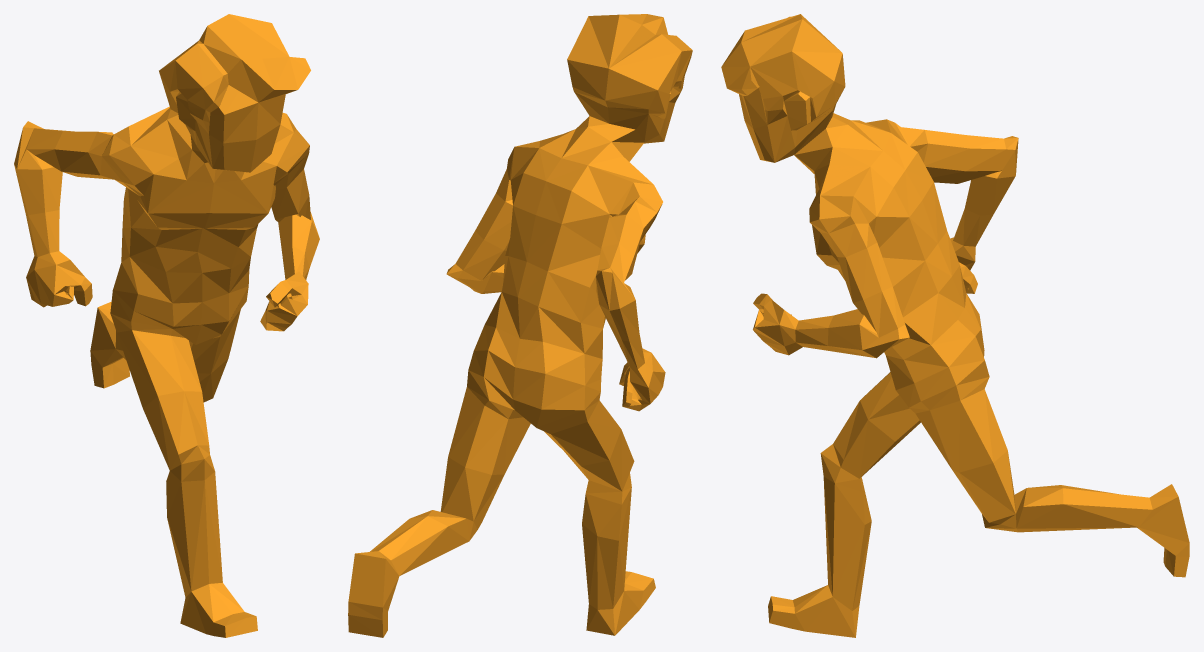
The model's file is SM_Pawn_Run_Male_01.fbx.
The picture shows the model from 3 angles, left to right: view 1: azimuth 30°, elevation 25°; view 2: azimuth 150°, elevation 25°; view 3: azimuth 270°, elevation 25°; orthographic projection. The views are drawn at different scales.
Visible parts, largest first — view 1: SM_Pawn_Run_Male_01; view 2: SM_Pawn_Run_Male_01; view 3: SM_Pawn_Run_Male_01.
Part boxes in pixels (bbox=[...]): SM_Pawn_Run_Male_01: bbox=[14, 14, 319, 637]; SM_Pawn_Run_Male_01: bbox=[348, 14, 692, 637]; SM_Pawn_Run_Male_01: bbox=[721, 14, 1189, 637].
Bounding box in the file's own units: 69.51 × 169 × 116.
